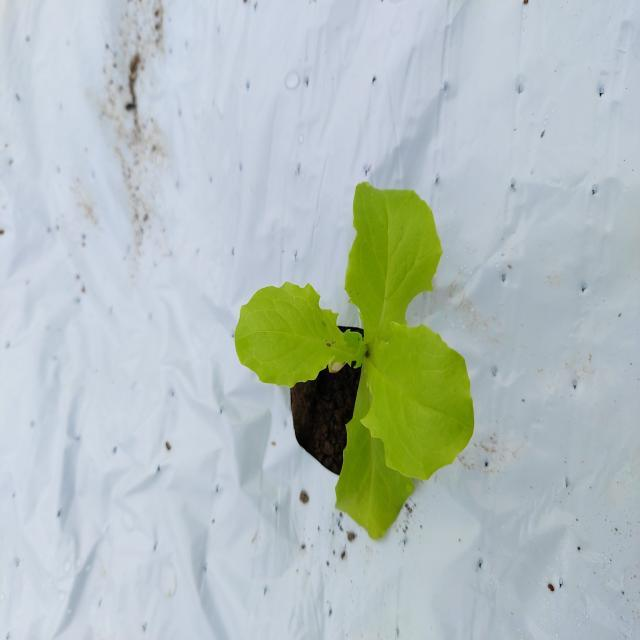Lettuce-Not-Ready-to-Harvest: (237, 184, 477, 537)
